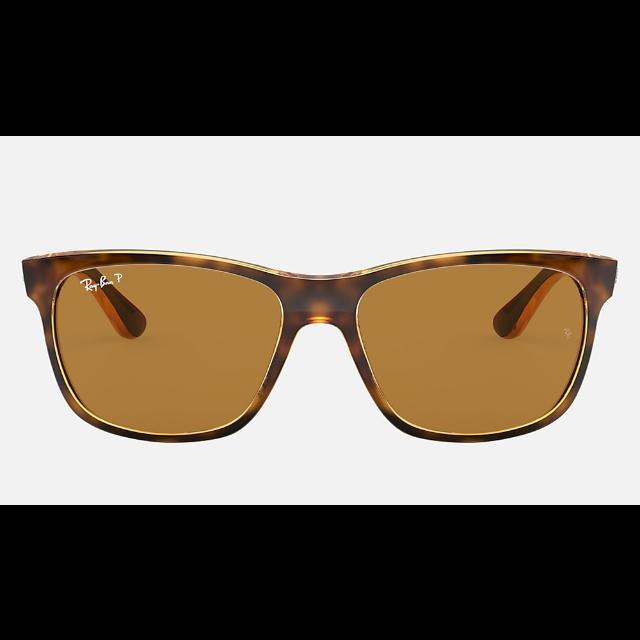Sunglasses: (19, 246, 614, 444)
